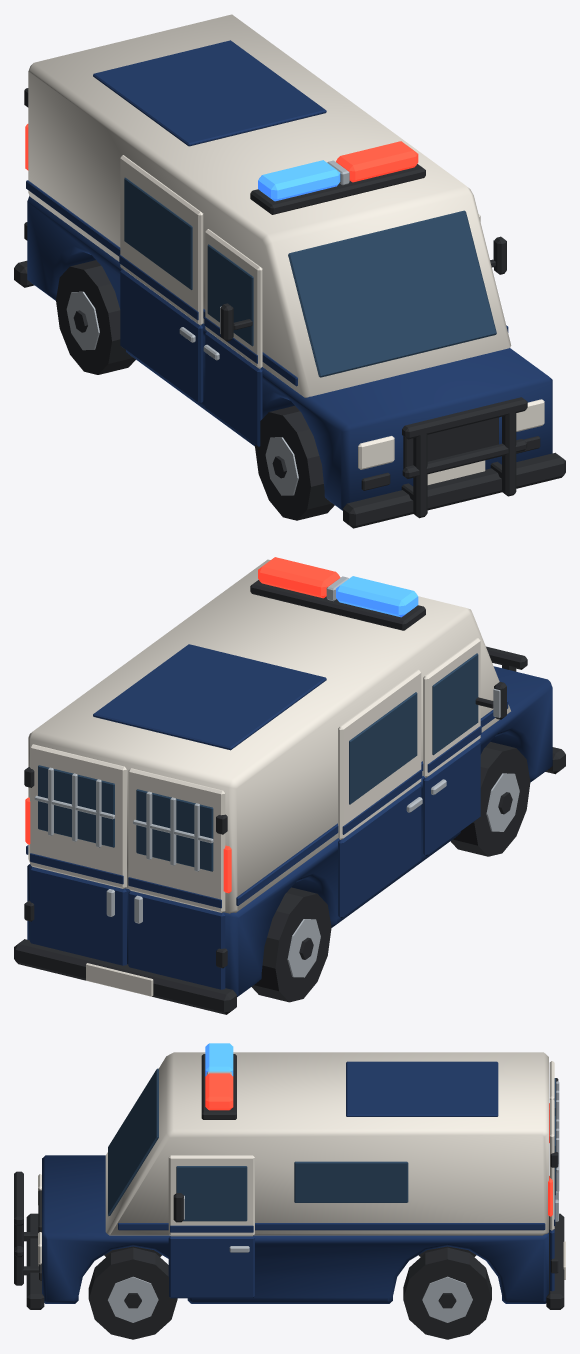
The model's file is low-poly-police-van.glb.
3 views of the same model, one above another, from view 1: azimuth 30°, elevation 25°; view 2: azimuth 150°, elevation 25°; view 3: azimuth 270°, elevation 25° (orthographic). The views are drawn at different scales.
Parts seen in each view (by area): view 1: Body, Door_Side, Door_Passenger, Wheel_FR, Wheel_RR; view 2: Body, Door_RearL, Door_RearR, Door_Side, Door_Passenger, Wheel_RR, Wheel_FR; view 3: Body, Door_Driver, Wheel_RL, Wheel_FL, Door_RearL, Door_RearR.
Part boxes in pixels (left/top/right/bottom): Body: left=14, top=14, right=565, bottom=528; Door_Side: left=119, top=155, right=203, bottom=403; Door_Passenger: left=203, top=229, right=262, bottom=446; Wheel_FR: left=255, top=405, right=334, bottom=520; Wheel_RR: left=56, top=260, right=135, bottom=374; Body: left=14, top=557, right=565, bottom=1014; Door_RearL: left=24, top=744, right=126, bottom=965; Door_RearR: left=128, top=768, right=227, bottom=989; Door_Side: left=338, top=669, right=422, bottom=918; Door_Passenger: left=423, top=638, right=506, bottom=856; Wheel_RR: left=252, top=887, right=331, bottom=1002; Wheel_FR: left=450, top=742, right=530, bottom=856; Body: left=14, top=1043, right=565, bottom=1309; Door_Driver: left=168, top=1155, right=254, bottom=1298; Wheel_RL: left=403, top=1247, right=491, bottom=1339; Wheel_FL: left=88, top=1247, right=177, bottom=1339; Door_RearL: left=549, top=1099, right=559, bottom=1291; Door_RearR: left=549, top=1061, right=559, bottom=1200.
Bounding box in the file's own units: 10.19 × 9.9 × 21.77.
